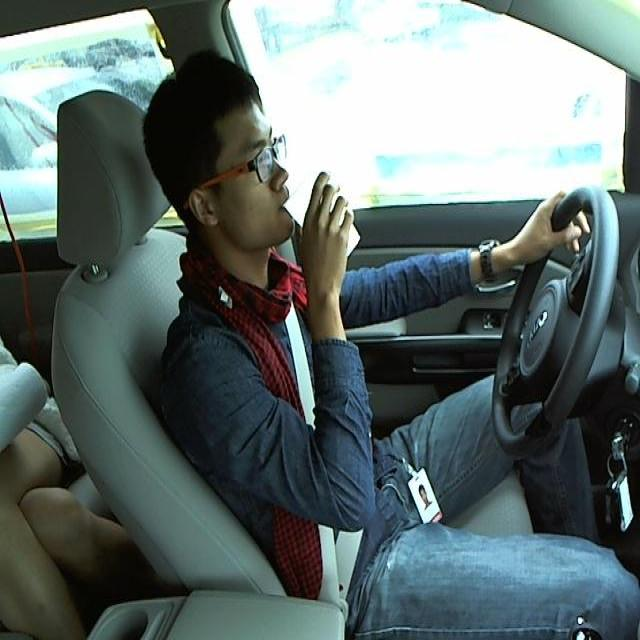Seatbelt: (291, 166, 361, 262)
